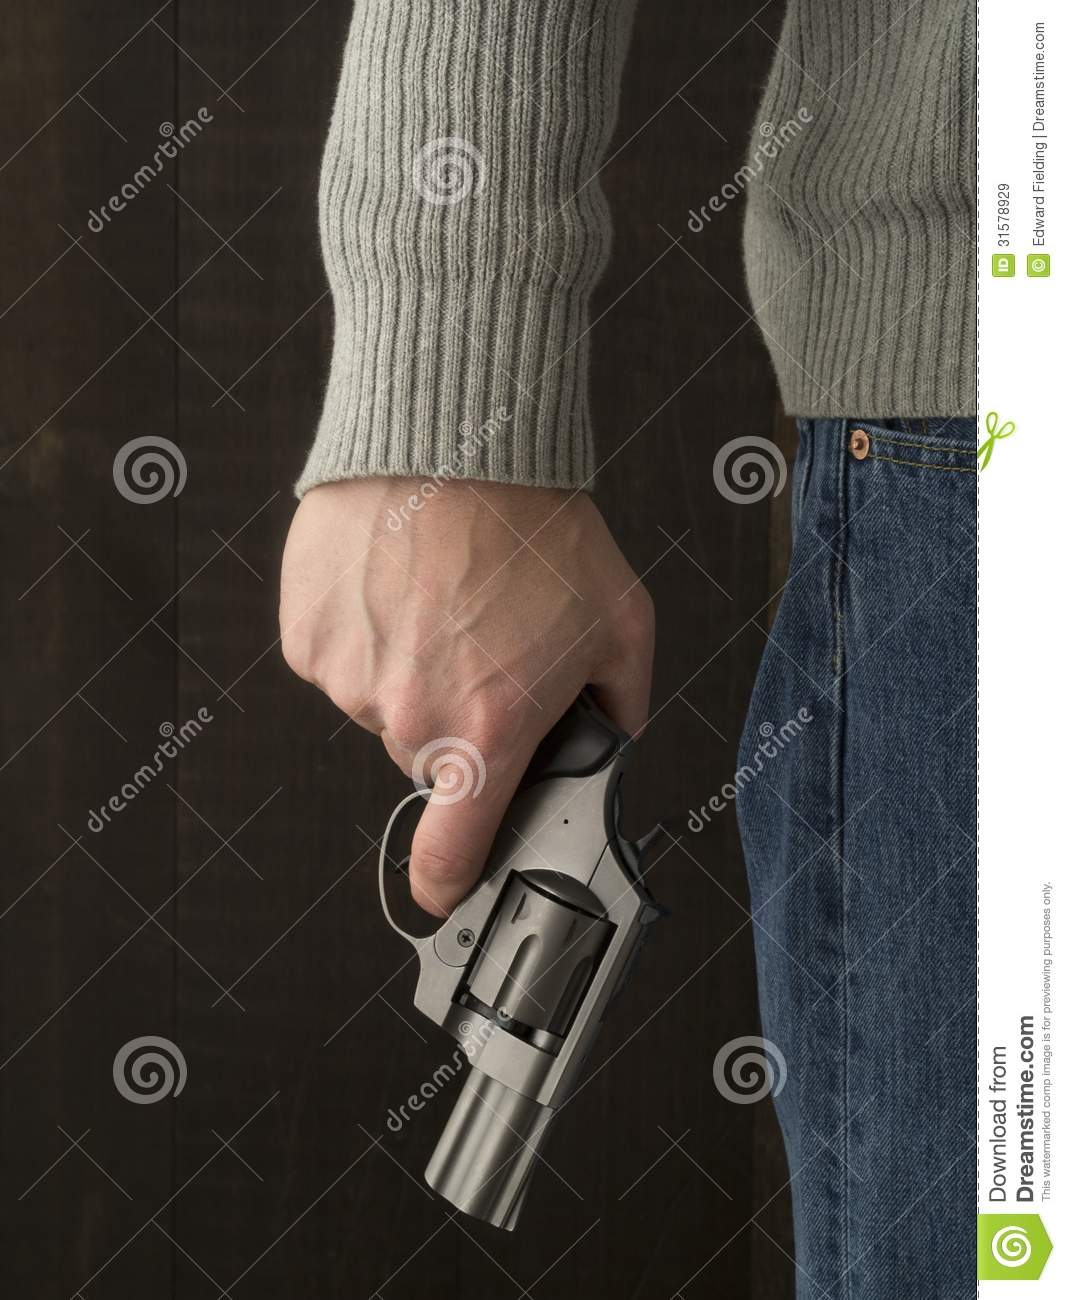Revolver: (335, 669, 673, 1224)
